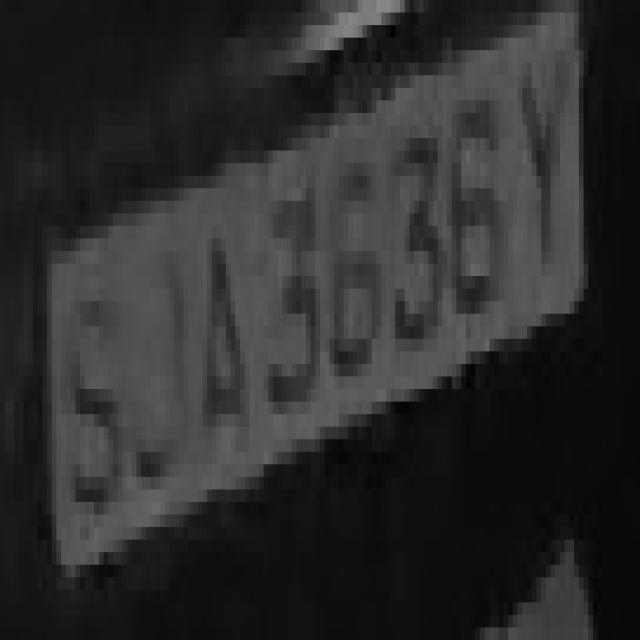3: (244, 126, 324, 439), (386, 88, 456, 389)
6: (311, 100, 381, 477), (438, 62, 508, 402)
A: (174, 163, 250, 502)
J: (122, 200, 198, 540)
S: (47, 251, 132, 577)
Y: (513, 12, 598, 376)
